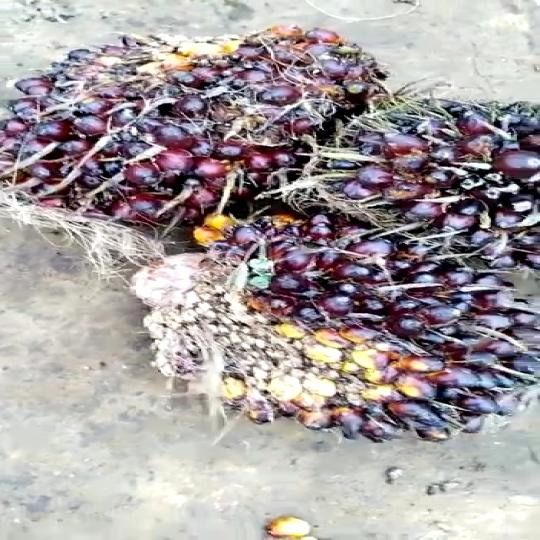kurang masak: (104, 227, 540, 434), (0, 24, 399, 235), (289, 100, 540, 269)
